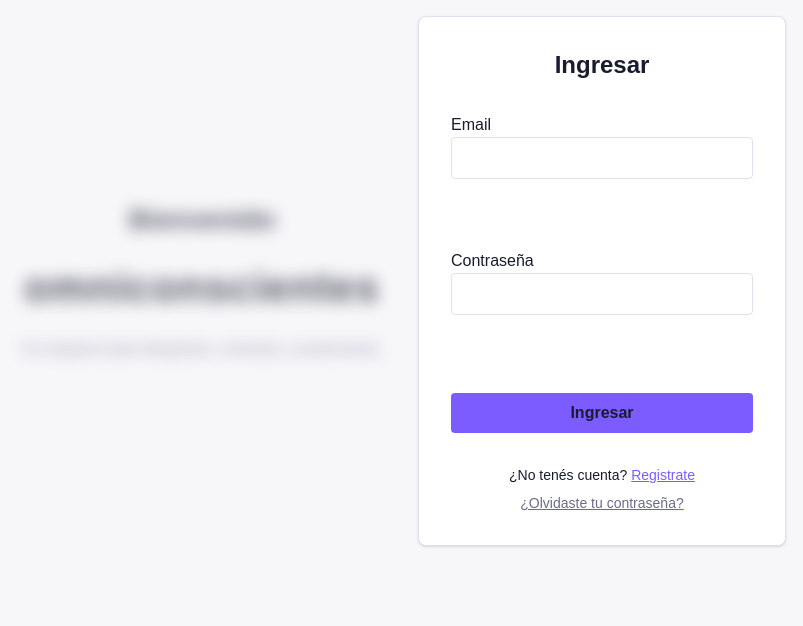
Scenario: AuthForm › Login Form › should successfully sign in with valid credentials
Type "test@example.com" into the field with test id "email-input" at (602, 158), box [451,137,753,179]
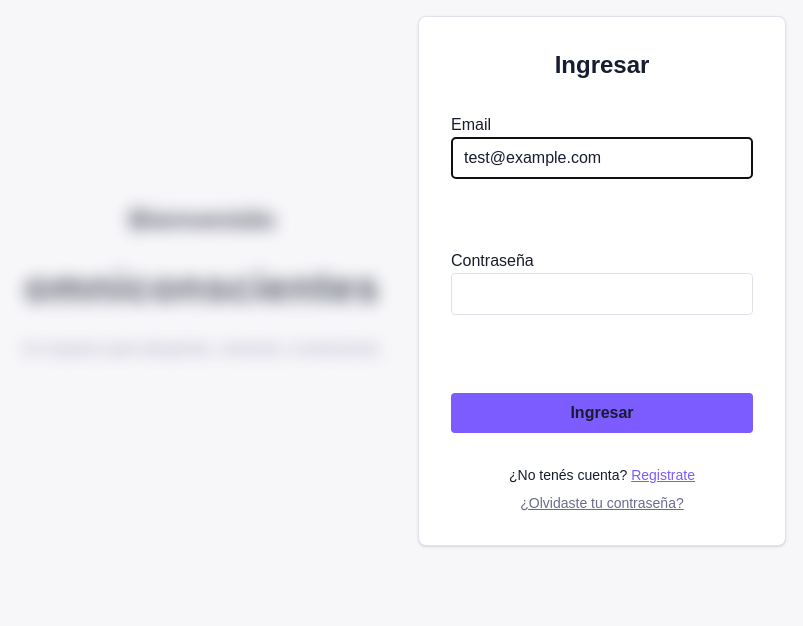
Type "password123" into the password field with test id "password-input" at (602, 294), box [451,273,753,315]
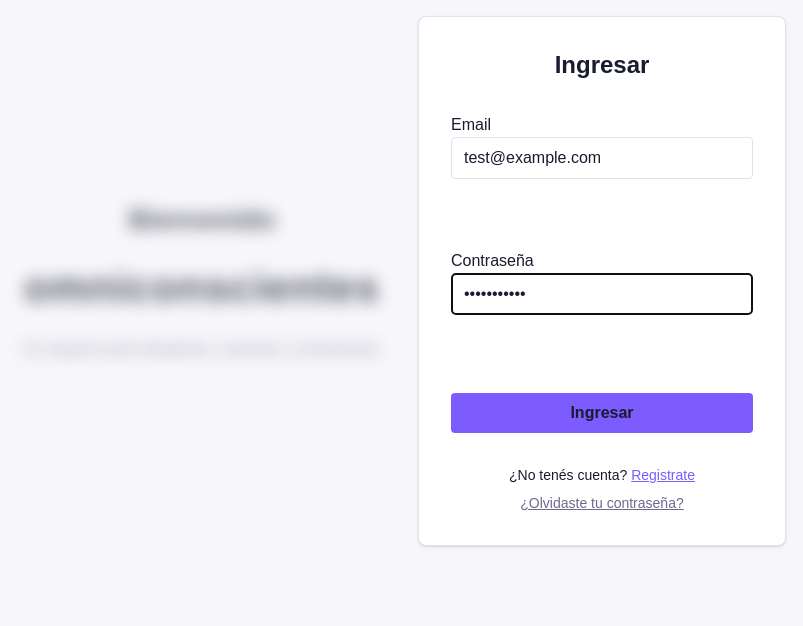
Click the button with test id "submit-button" at (602, 413), box [451,393,753,433]
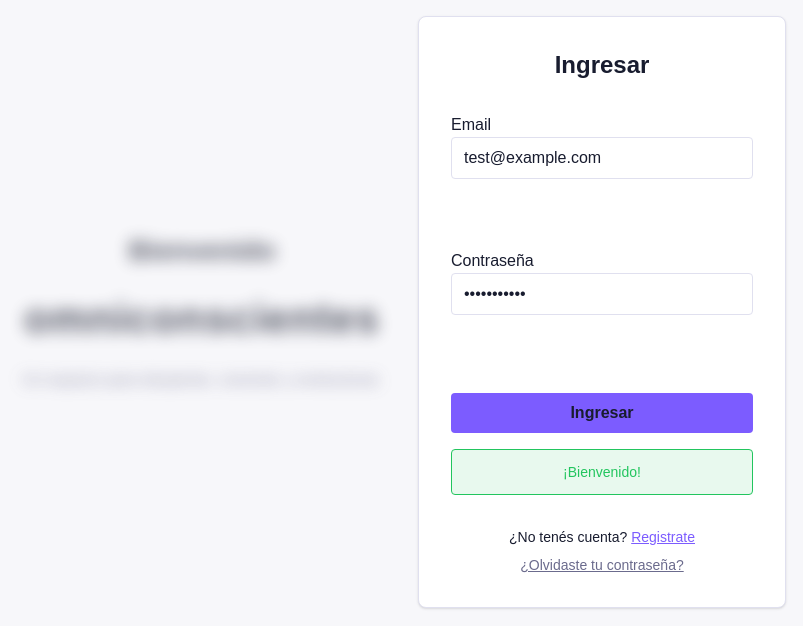
Expected: the text with test id "form-message" reads "¡Bienvenido!", [563,464,641,480]
